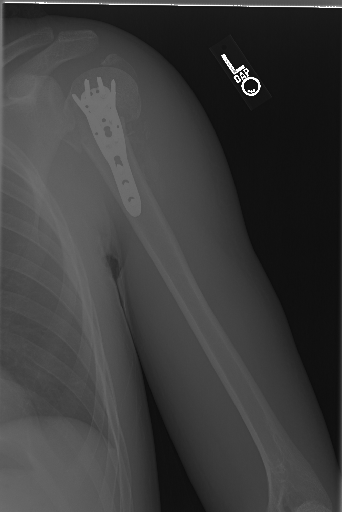implant: (69, 74, 146, 218)
